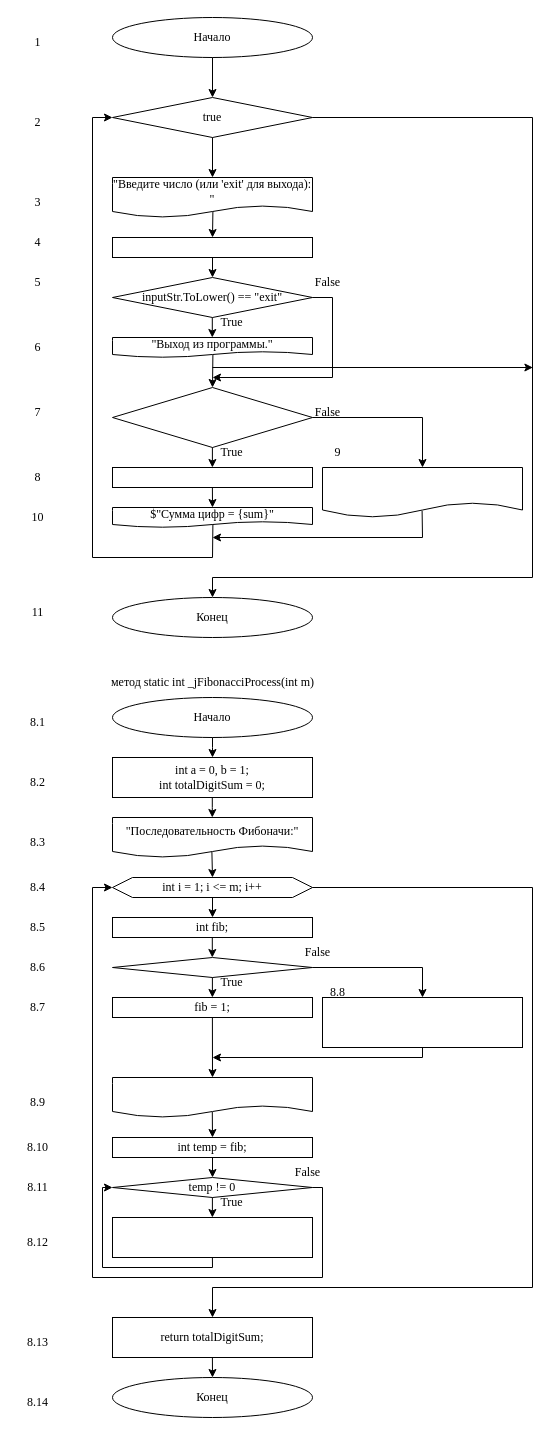
Image size: 558x1435. Some labels were removed from this diagram. Here are the shapes that lost their labels. From the top down, the centre of each, then its label:
(x=212, y=247): string inputStr = Console.ReadLine();
(x=212, y=417): int.TryParse (inputStr, out int input) && input > 0
(x=212, y=477): int sum = _jFibonacciProcess(input);
(x=422, y=492): "Некорректный ввод. Введите положительное целое число или 'exit'."
(x=212, y=967): i == 1
(x=422, y=1022): fib = a + b; a = b; b = fib;
(x=212, y=1097): $"F({i}) = {fib}"
(x=212, y=1237): totalDigitSum += temp % 10; temp /= 10;
